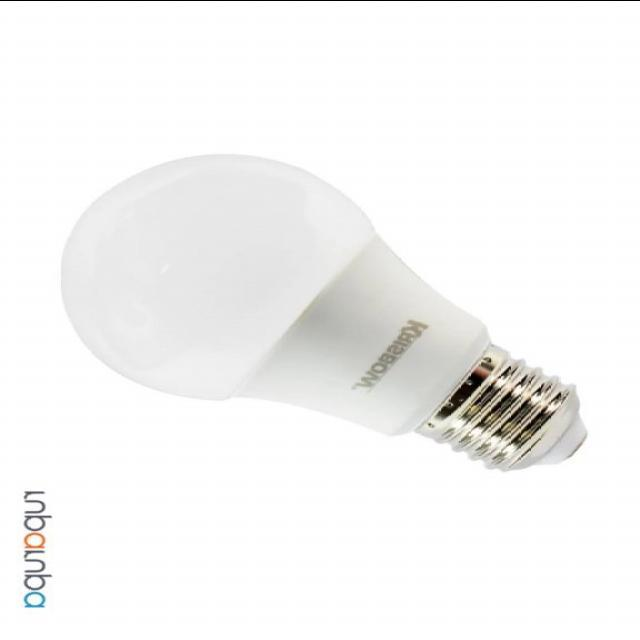light_bulb: (48, 142, 600, 488)
